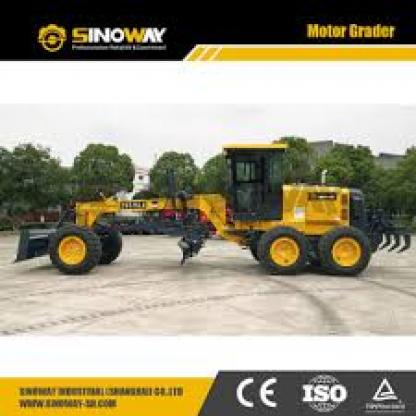bull_dozer/loader/grader: (7, 128, 414, 305)
